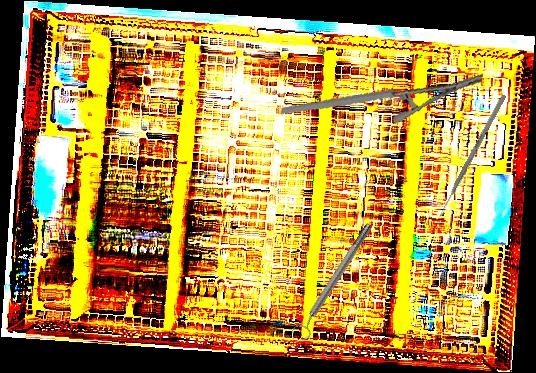Fixation Ring: (288, 219, 380, 344)
Needle Holder: (280, 39, 484, 149)
Pusher: (436, 93, 507, 220)
